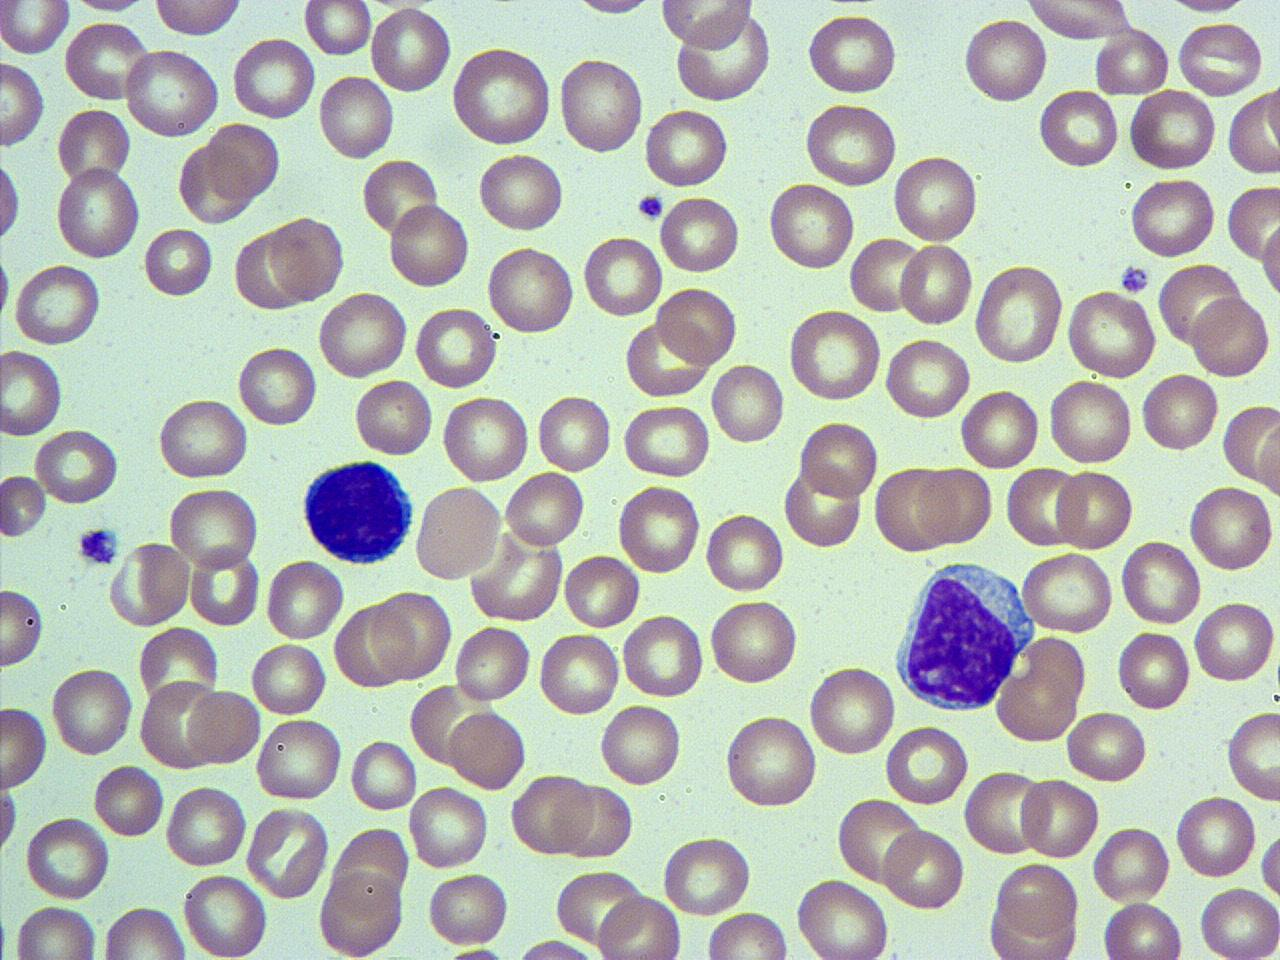Platelets: (74, 522, 121, 568), (1118, 264, 1152, 292), (636, 192, 665, 222)
RBC: (447, 46, 555, 149), (992, 634, 1086, 748), (974, 260, 1068, 368), (722, 710, 820, 812), (786, 305, 884, 404), (670, 9, 776, 100), (413, 482, 505, 584), (558, 53, 646, 158), (122, 46, 220, 140), (484, 242, 578, 340), (706, 595, 801, 690), (1065, 286, 1159, 381), (316, 288, 410, 382), (52, 164, 142, 262), (801, 100, 901, 188), (806, 664, 898, 758), (616, 480, 702, 580), (1185, 482, 1277, 576), (440, 391, 532, 485), (765, 179, 856, 274), (804, 9, 900, 99), (792, 874, 892, 960), (1018, 550, 1116, 636), (834, 793, 924, 885), (1046, 375, 1136, 469), (156, 393, 251, 482), (166, 484, 262, 572), (891, 152, 981, 245), (245, 804, 332, 899), (959, 14, 1048, 107), (49, 663, 135, 758), (12, 260, 105, 348), (386, 198, 472, 292), (370, 587, 454, 684), (180, 870, 270, 960), (882, 334, 974, 422), (316, 868, 406, 957), (642, 104, 732, 193), (962, 766, 1048, 858), (368, 4, 453, 98), (254, 715, 343, 804), (597, 700, 684, 790), (620, 609, 706, 701), (536, 628, 622, 720), (23, 814, 112, 902), (1128, 173, 1218, 260), (659, 833, 755, 914), (163, 781, 249, 870), (406, 782, 491, 872), (509, 770, 596, 858), (1173, 793, 1259, 881), (477, 150, 566, 235), (1127, 90, 1217, 174), (236, 340, 321, 430), (882, 823, 966, 914), (581, 232, 665, 321), (108, 538, 191, 628), (1192, 598, 1276, 688), (883, 722, 971, 807), (1188, 292, 1272, 381), (1018, 772, 1101, 862), (317, 70, 396, 163), (412, 302, 498, 387), (135, 622, 222, 707), (231, 36, 317, 121), (655, 282, 740, 369), (1036, 85, 1120, 172), (33, 426, 122, 508), (502, 467, 588, 552), (352, 374, 436, 460), (1120, 538, 1202, 626), (1173, 19, 1265, 98), (796, 418, 882, 502), (658, 192, 744, 275), (708, 358, 787, 448), (267, 212, 346, 303), (621, 402, 713, 480), (1090, 823, 1174, 907), (959, 386, 1042, 472), (1054, 466, 1136, 553), (1139, 369, 1221, 456), (452, 621, 533, 708), (702, 510, 786, 594), (63, 20, 149, 102), (425, 868, 511, 950), (898, 240, 976, 330), (560, 548, 642, 632), (361, 154, 442, 238), (446, 708, 528, 792), (264, 557, 344, 642), (1064, 707, 1150, 786), (1115, 627, 1193, 713), (55, 103, 133, 190), (1004, 463, 1082, 548), (913, 463, 992, 548), (534, 392, 614, 475), (847, 232, 923, 318), (248, 640, 329, 720), (995, 862, 1079, 938), (594, 890, 684, 960), (176, 143, 252, 225), (1197, 884, 1279, 960), (187, 544, 260, 628), (0, 345, 65, 440), (208, 120, 282, 202), (186, 686, 261, 767), (92, 762, 167, 840), (1092, 25, 1170, 96), (349, 736, 419, 815), (1224, 706, 1280, 804), (142, 224, 214, 301), (656, 0, 758, 53), (1099, 898, 1185, 960), (98, 902, 189, 959), (1222, 399, 1280, 488), (1226, 84, 1280, 178), (11, 902, 98, 959), (1020, 0, 1132, 42), (1225, 182, 1279, 266), (0, 704, 51, 793), (702, 908, 791, 959), (0, 58, 47, 148), (0, 0, 73, 57), (302, 0, 373, 58), (0, 584, 47, 670), (148, 0, 247, 39), (0, 470, 47, 541), (505, 936, 603, 960), (1256, 414, 1280, 503), (1259, 216, 1279, 304)
WBC: (889, 556, 1039, 715), (299, 456, 420, 568)
